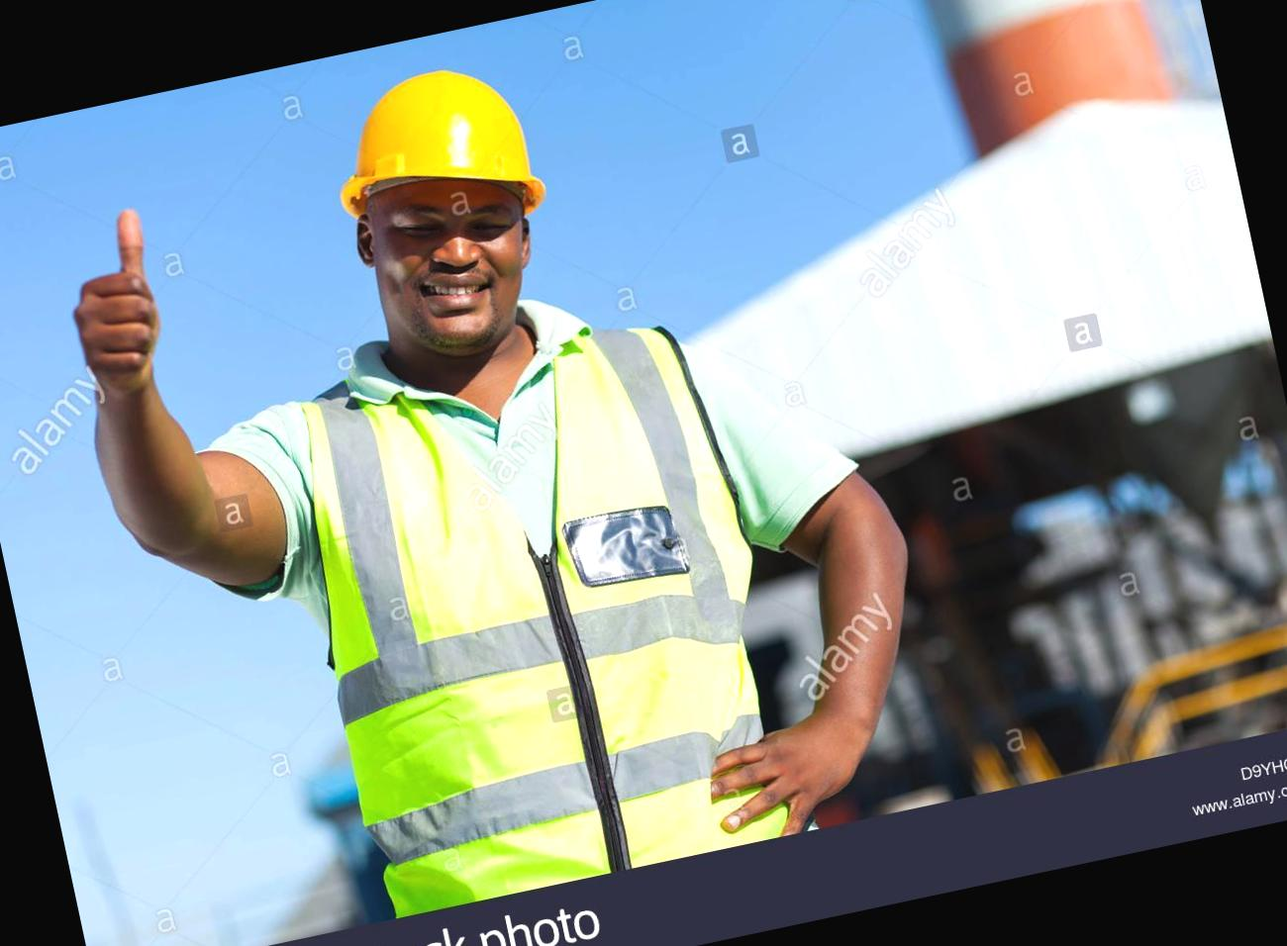helmet: (296, 44, 575, 247)
person: (131, 0, 945, 896)
